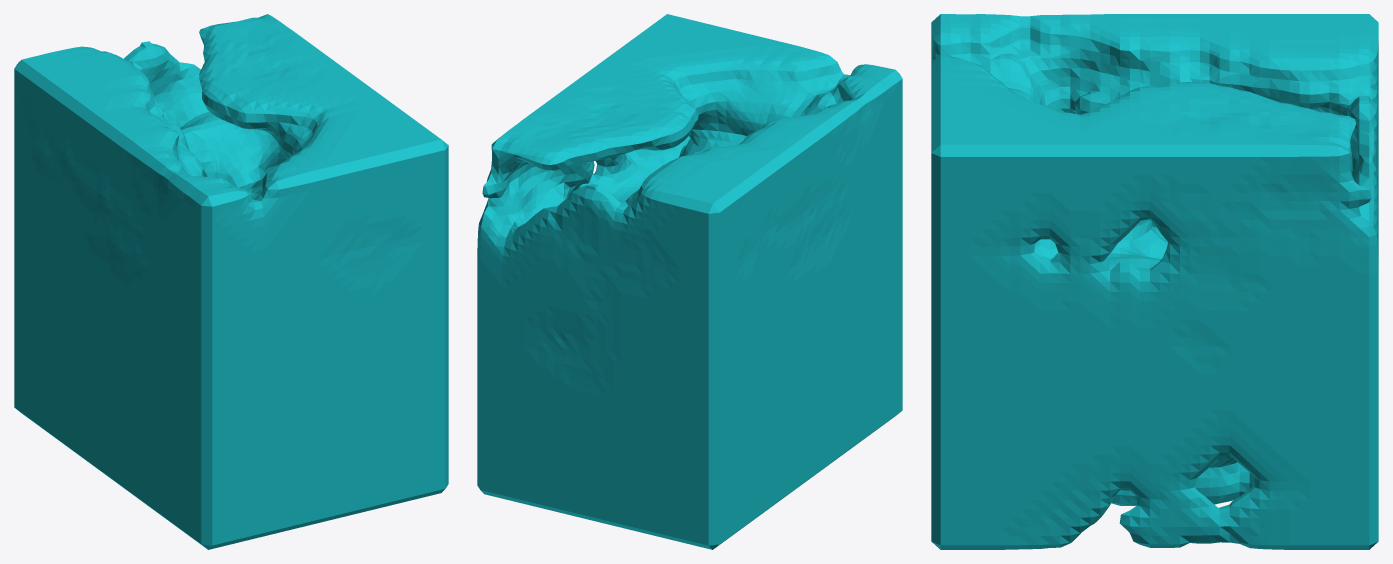
3 views of the same model, side by side, from view 1: azimuth 30°, elevation 25°; view 2: azimuth 150°, elevation 25°; view 3: azimuth 270°, elevation 25° (orthographic). The views are drawn at different scales.
Parts seen in each view (by area): view 1: Liquid_Domain; view 2: Liquid_Domain; view 3: Liquid_Domain.
Boxes of the visible parts, x1,y1,x2,y2 form: Liquid_Domain: [14, 14, 448, 549]; Liquid_Domain: [477, 14, 902, 549]; Liquid_Domain: [931, 14, 1378, 549].
Bounding box in the file's own units: 79.09 × 108 × 108.
